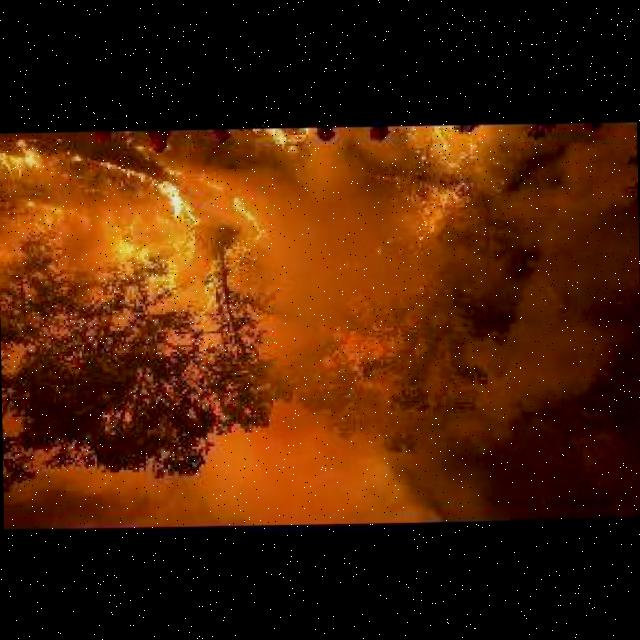fire: (0, 141, 269, 323), (376, 126, 488, 250)
